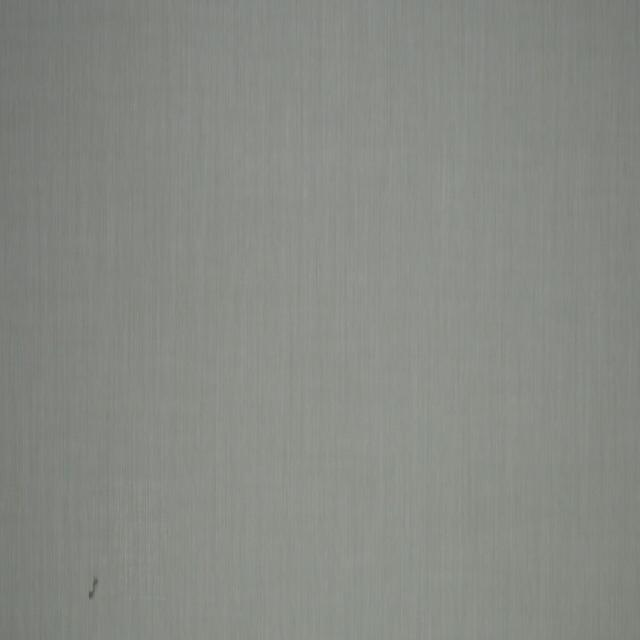dirty: (87, 576, 98, 598)
